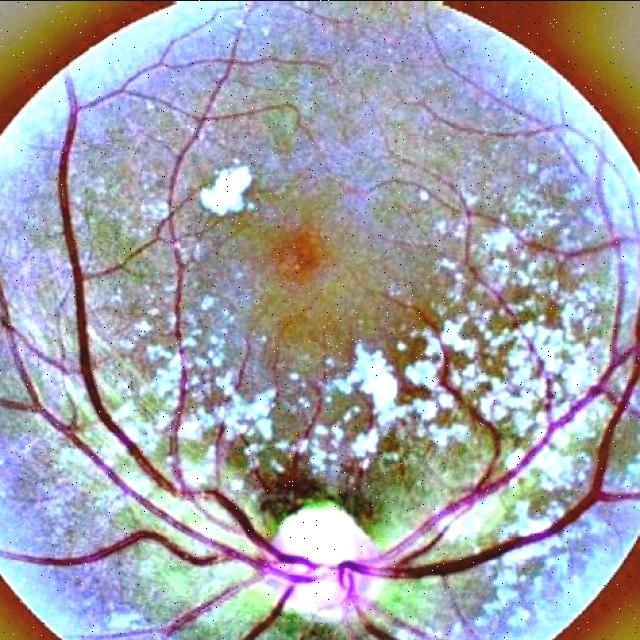Macula: (260, 199, 347, 308)
Nerves: (0, 93, 299, 580), (345, 342, 638, 587)
Optic Disk: (261, 492, 383, 620)
